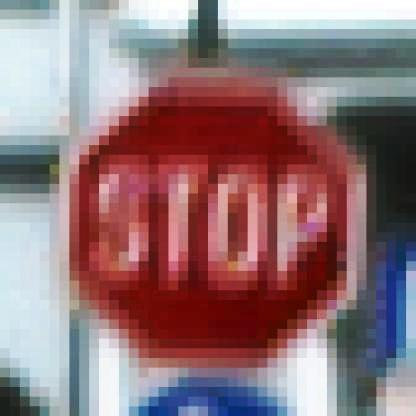Stop Sign: (53, 68, 381, 372)
